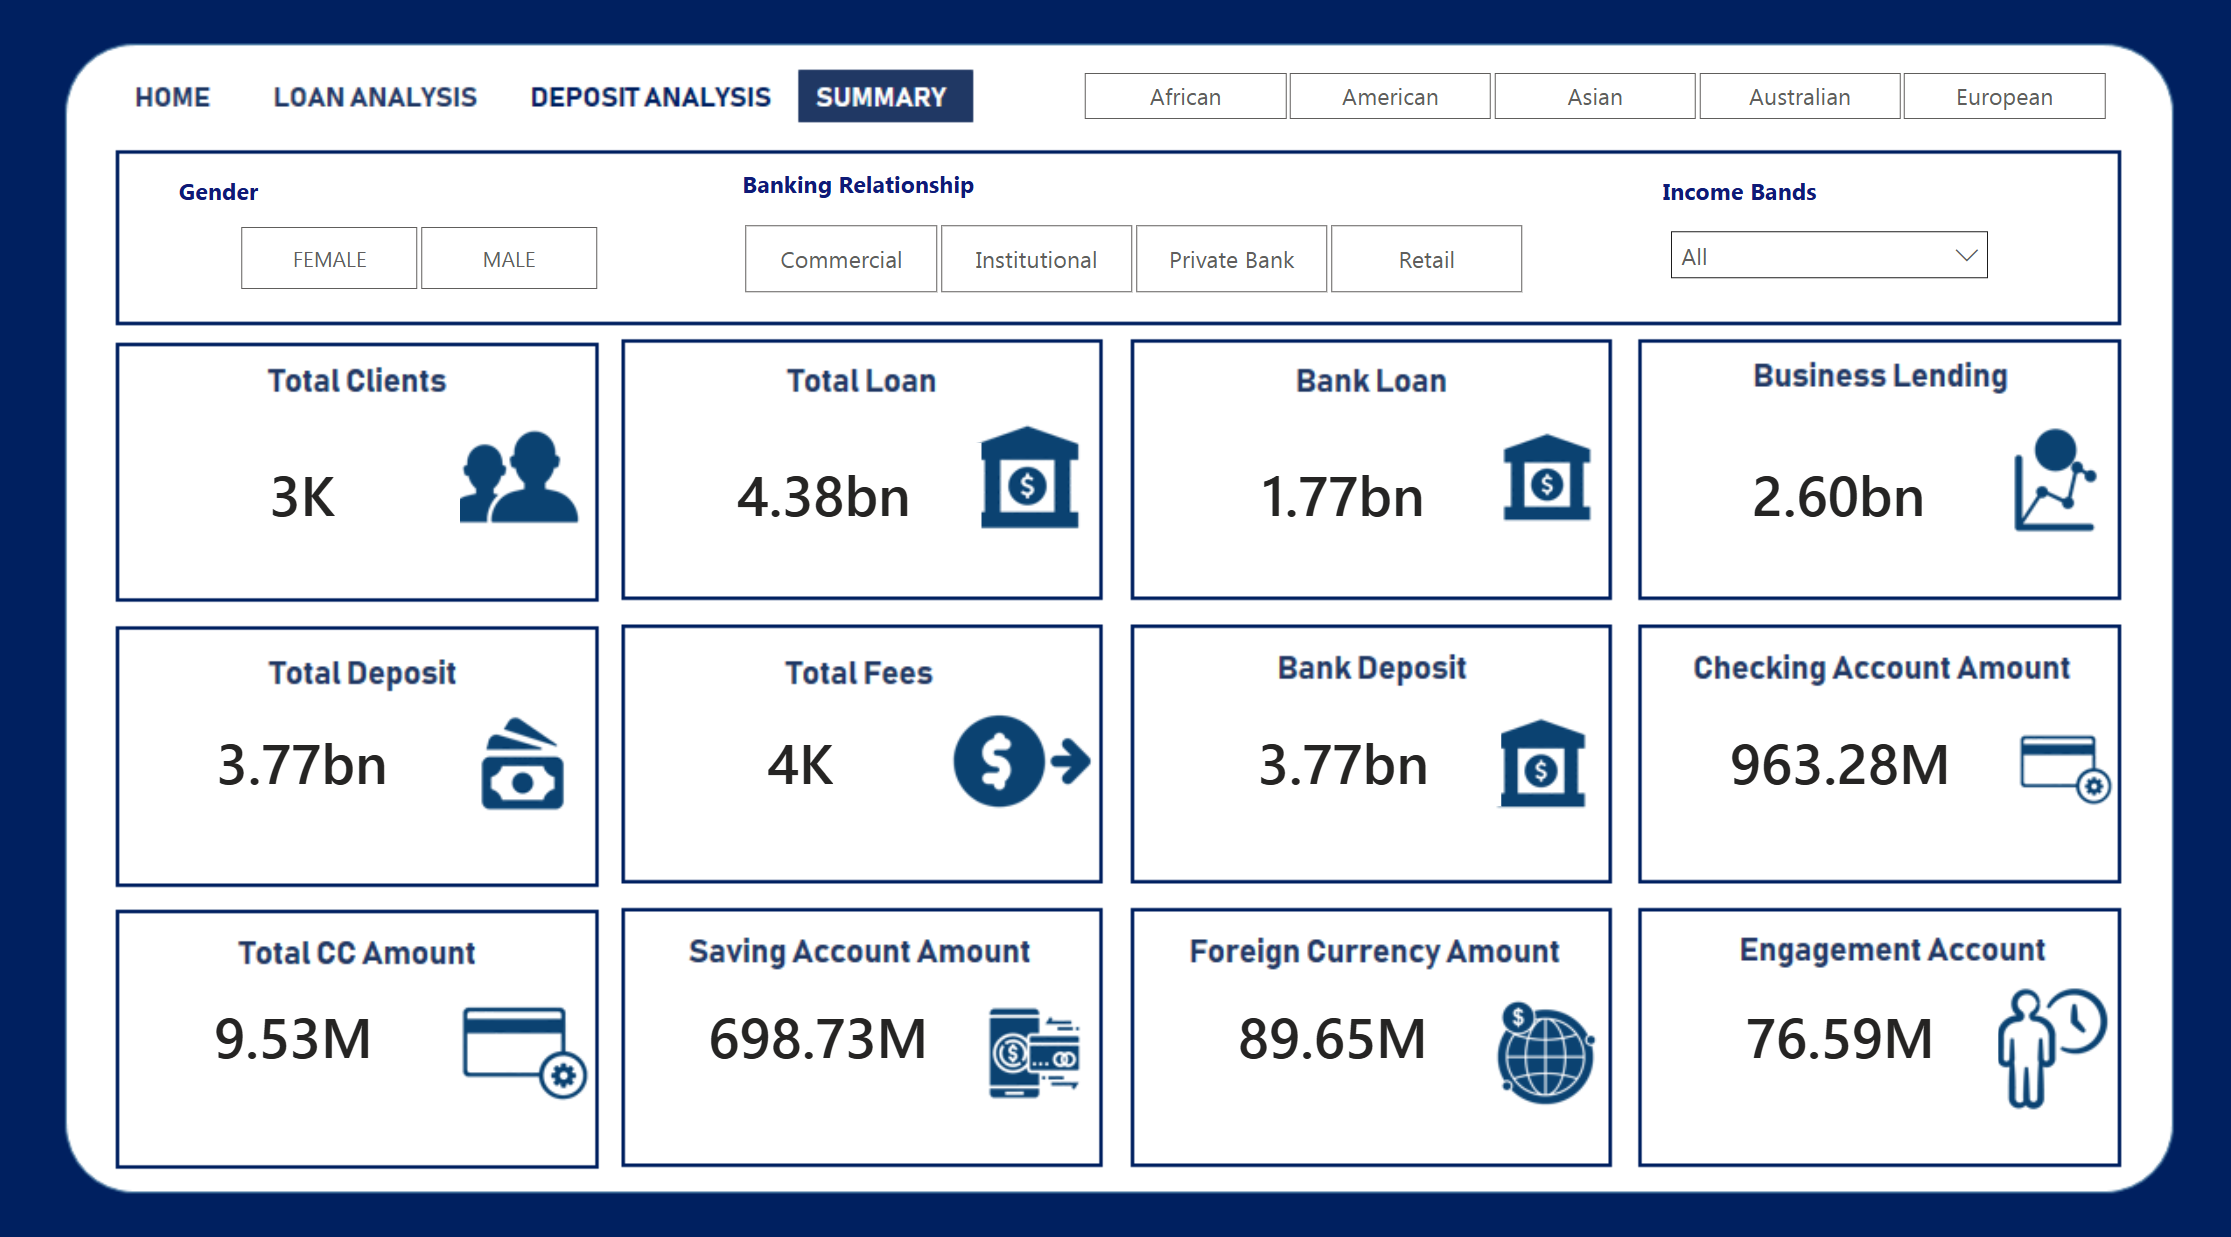

What the dashboard file says about the page in this screenshot:
{"tool":"powerbi","page":{"name":"Summary","canvas":[1280,720],"ordinal":3},"visuals":[{"type":"actionButton","box":[57,40,88,40],"z":0},{"type":"actionButton","box":[154,40,130,40],"z":1000},{"type":"actionButton","box":[303,40,151,40],"z":2000},{"type":"slicer","fields":{"Values":["Banking_Clients.Nationality"]},"box":[597,40,633,40],"z":4000},{"type":"slicer","fields":{"Values":["Banking_Clients.GenderId"]},"box":[115,128,253,49],"z":5000},{"type":"slicer","fields":{"Values":["Banking_Clients.BRId"]},"box":[403,127,494,52],"z":6000},{"type":"slicer","fields":{"Values":["Banking_Clients.Income Band"]},"box":[948,127,201,50],"z":7000},{"type":"cardVisual","fields":{"Data":["Banking_Clients.Total Clients"]},"box":[80,253,191,65],"z":8000},{"type":"cardVisual","fields":{"Data":["Banking_Clients.total loan"]},"box":[378,253,191,65],"z":9000},{"type":"cardVisual","fields":{"Data":["Sum(Banking_Clients.Bank Loans)"]},"box":[675,253,191,65],"z":10000},{"type":"cardVisual","fields":{"Data":["Sum(Banking_Clients.Business Lending)"]},"box":[958,253,191,65],"z":11000},{"type":"cardVisual","fields":{"Data":["Banking_Clients.Total Deposit"]},"box":[80,406,191,65],"z":12000},{"type":"cardVisual","fields":{"Data":["Sum(Banking_Clients.Credit Card Balance)"]},"box":[75,563,191,65],"z":13000},{"type":"cardVisual","fields":{"Data":["Sum(Banking_Clients.Saving Accounts)"]},"box":[375,563,191,65],"z":14000},{"type":"cardVisual","fields":{"Data":["Sum(Banking_Clients.Foreign Currency Account)"]},"box":[669,563,191,65],"z":15000},{"type":"cardVisual","fields":{"Data":["Sum(Banking_Clients.Superannuation Savings)"]},"box":[959,563,191,65],"z":16000},{"type":"cardVisual","fields":{"Data":["Sum(Banking_Clients.Amount of Credit Cards)"]},"box":[379,406,162,65],"z":17000},{"type":"cardVisual","fields":{"Data":["Banking_Clients.Total Deposit"]},"box":[675,406,191,65],"z":18000},{"type":"cardVisual","fields":{"Data":["Sum(Banking_Clients.Checking Accounts)"]},"box":[959,406,191,65],"z":19000},{"type":"textbox","box":[100,100,71,28],"z":19001},{"type":"textbox","box":[422,96,166,31],"z":19002},{"type":"textbox","box":[948,100,101,28],"z":19003}]}

Visuals, with their boxes in screenshot pixels (x1, y1, x2, y2), scaled from the page's 1280x720 canvas onto the 2231x1237 screenshot:
actionButton: (left=99, top=69, right=253, bottom=137)
actionButton: (left=268, top=69, right=495, bottom=137)
actionButton: (left=528, top=69, right=791, bottom=137)
slicer - Banking_Clients.Nationality: (left=1041, top=69, right=2144, bottom=137)
slicer - Banking_Clients.GenderId: (left=200, top=220, right=641, bottom=304)
slicer - Banking_Clients.BRId: (left=702, top=218, right=1563, bottom=308)
slicer - Banking_Clients.Income Band: (left=1652, top=218, right=2003, bottom=304)
cardVisual - Banking_Clients.Total Clients: (left=139, top=435, right=472, bottom=546)
cardVisual - Banking_Clients.total loan: (left=659, top=435, right=992, bottom=546)
cardVisual - Sum(Banking_Clients.Bank Loans): (left=1177, top=435, right=1509, bottom=546)
cardVisual - Sum(Banking_Clients.Business Lending): (left=1670, top=435, right=2003, bottom=546)
cardVisual - Banking_Clients.Total Deposit: (left=139, top=698, right=472, bottom=809)
cardVisual - Sum(Banking_Clients.Credit Card Balance): (left=131, top=967, right=464, bottom=1079)
cardVisual - Sum(Banking_Clients.Saving Accounts): (left=654, top=967, right=987, bottom=1079)
cardVisual - Sum(Banking_Clients.Foreign Currency Account): (left=1166, top=967, right=1499, bottom=1079)
cardVisual - Sum(Banking_Clients.Superannuation Savings): (left=1672, top=967, right=2004, bottom=1079)
cardVisual - Sum(Banking_Clients.Amount of Credit Cards): (left=661, top=698, right=943, bottom=809)
cardVisual - Banking_Clients.Total Deposit: (left=1177, top=698, right=1509, bottom=809)
cardVisual - Sum(Banking_Clients.Checking Accounts): (left=1672, top=698, right=2004, bottom=809)
textbox: (left=174, top=172, right=298, bottom=220)
textbox: (left=736, top=165, right=1025, bottom=218)
textbox: (left=1652, top=172, right=1828, bottom=220)
